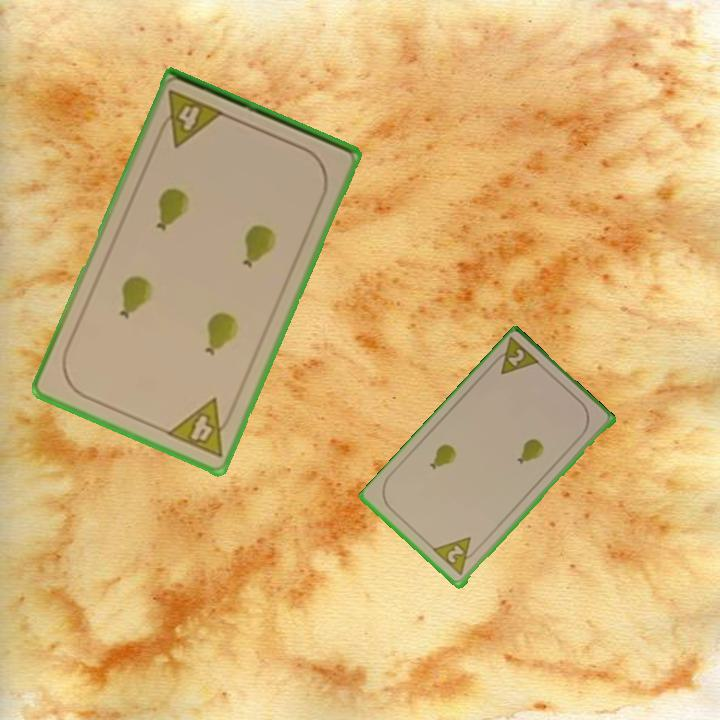2p: (487, 335, 544, 378), (430, 533, 482, 578)
4p: (163, 394, 239, 461), (153, 86, 227, 151)
